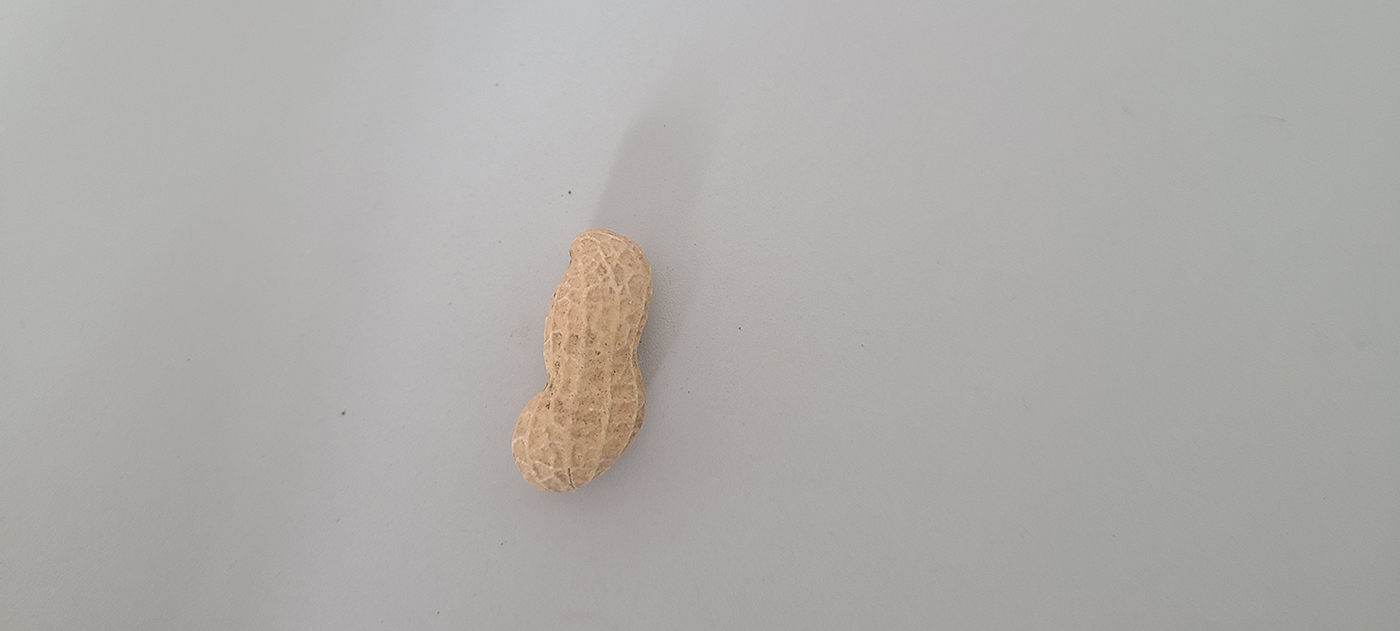h: (507, 223, 656, 496)
